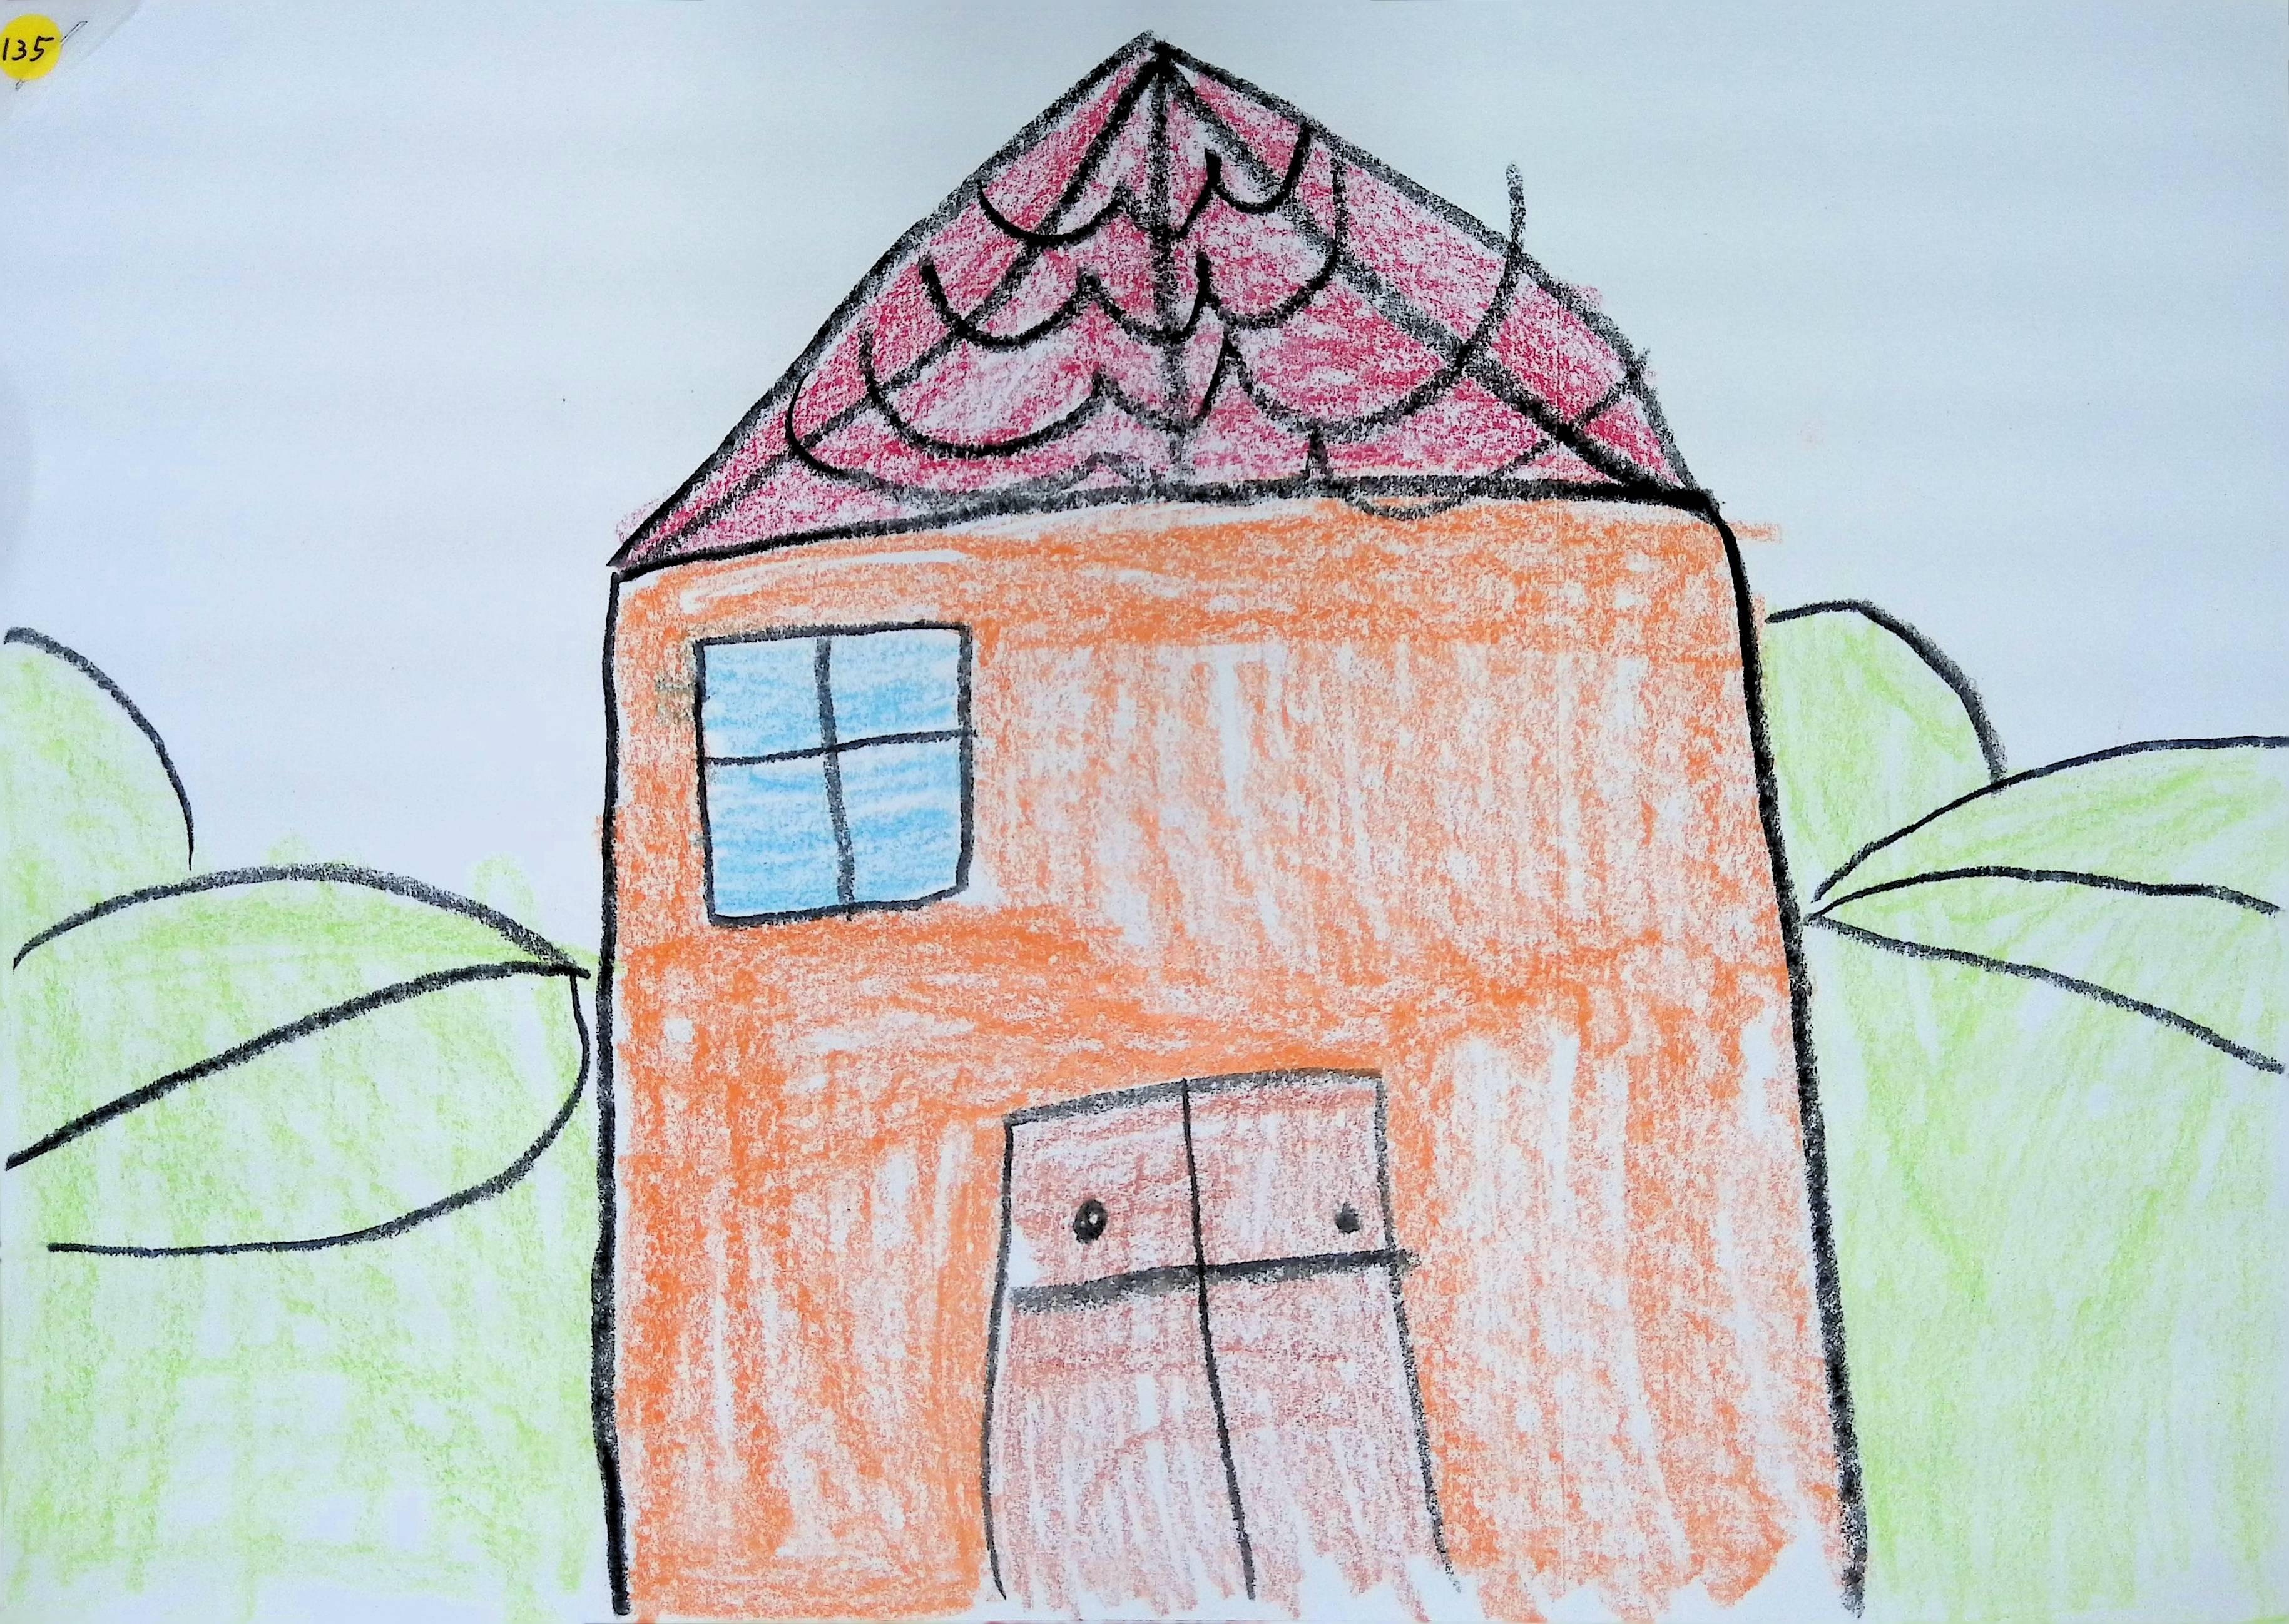door: (986, 1072, 1449, 1617)
house: (598, 35, 1864, 1620)
roof: (608, 25, 1726, 580)
wall: (596, 483, 1862, 1624)
window: (696, 626, 970, 921)
